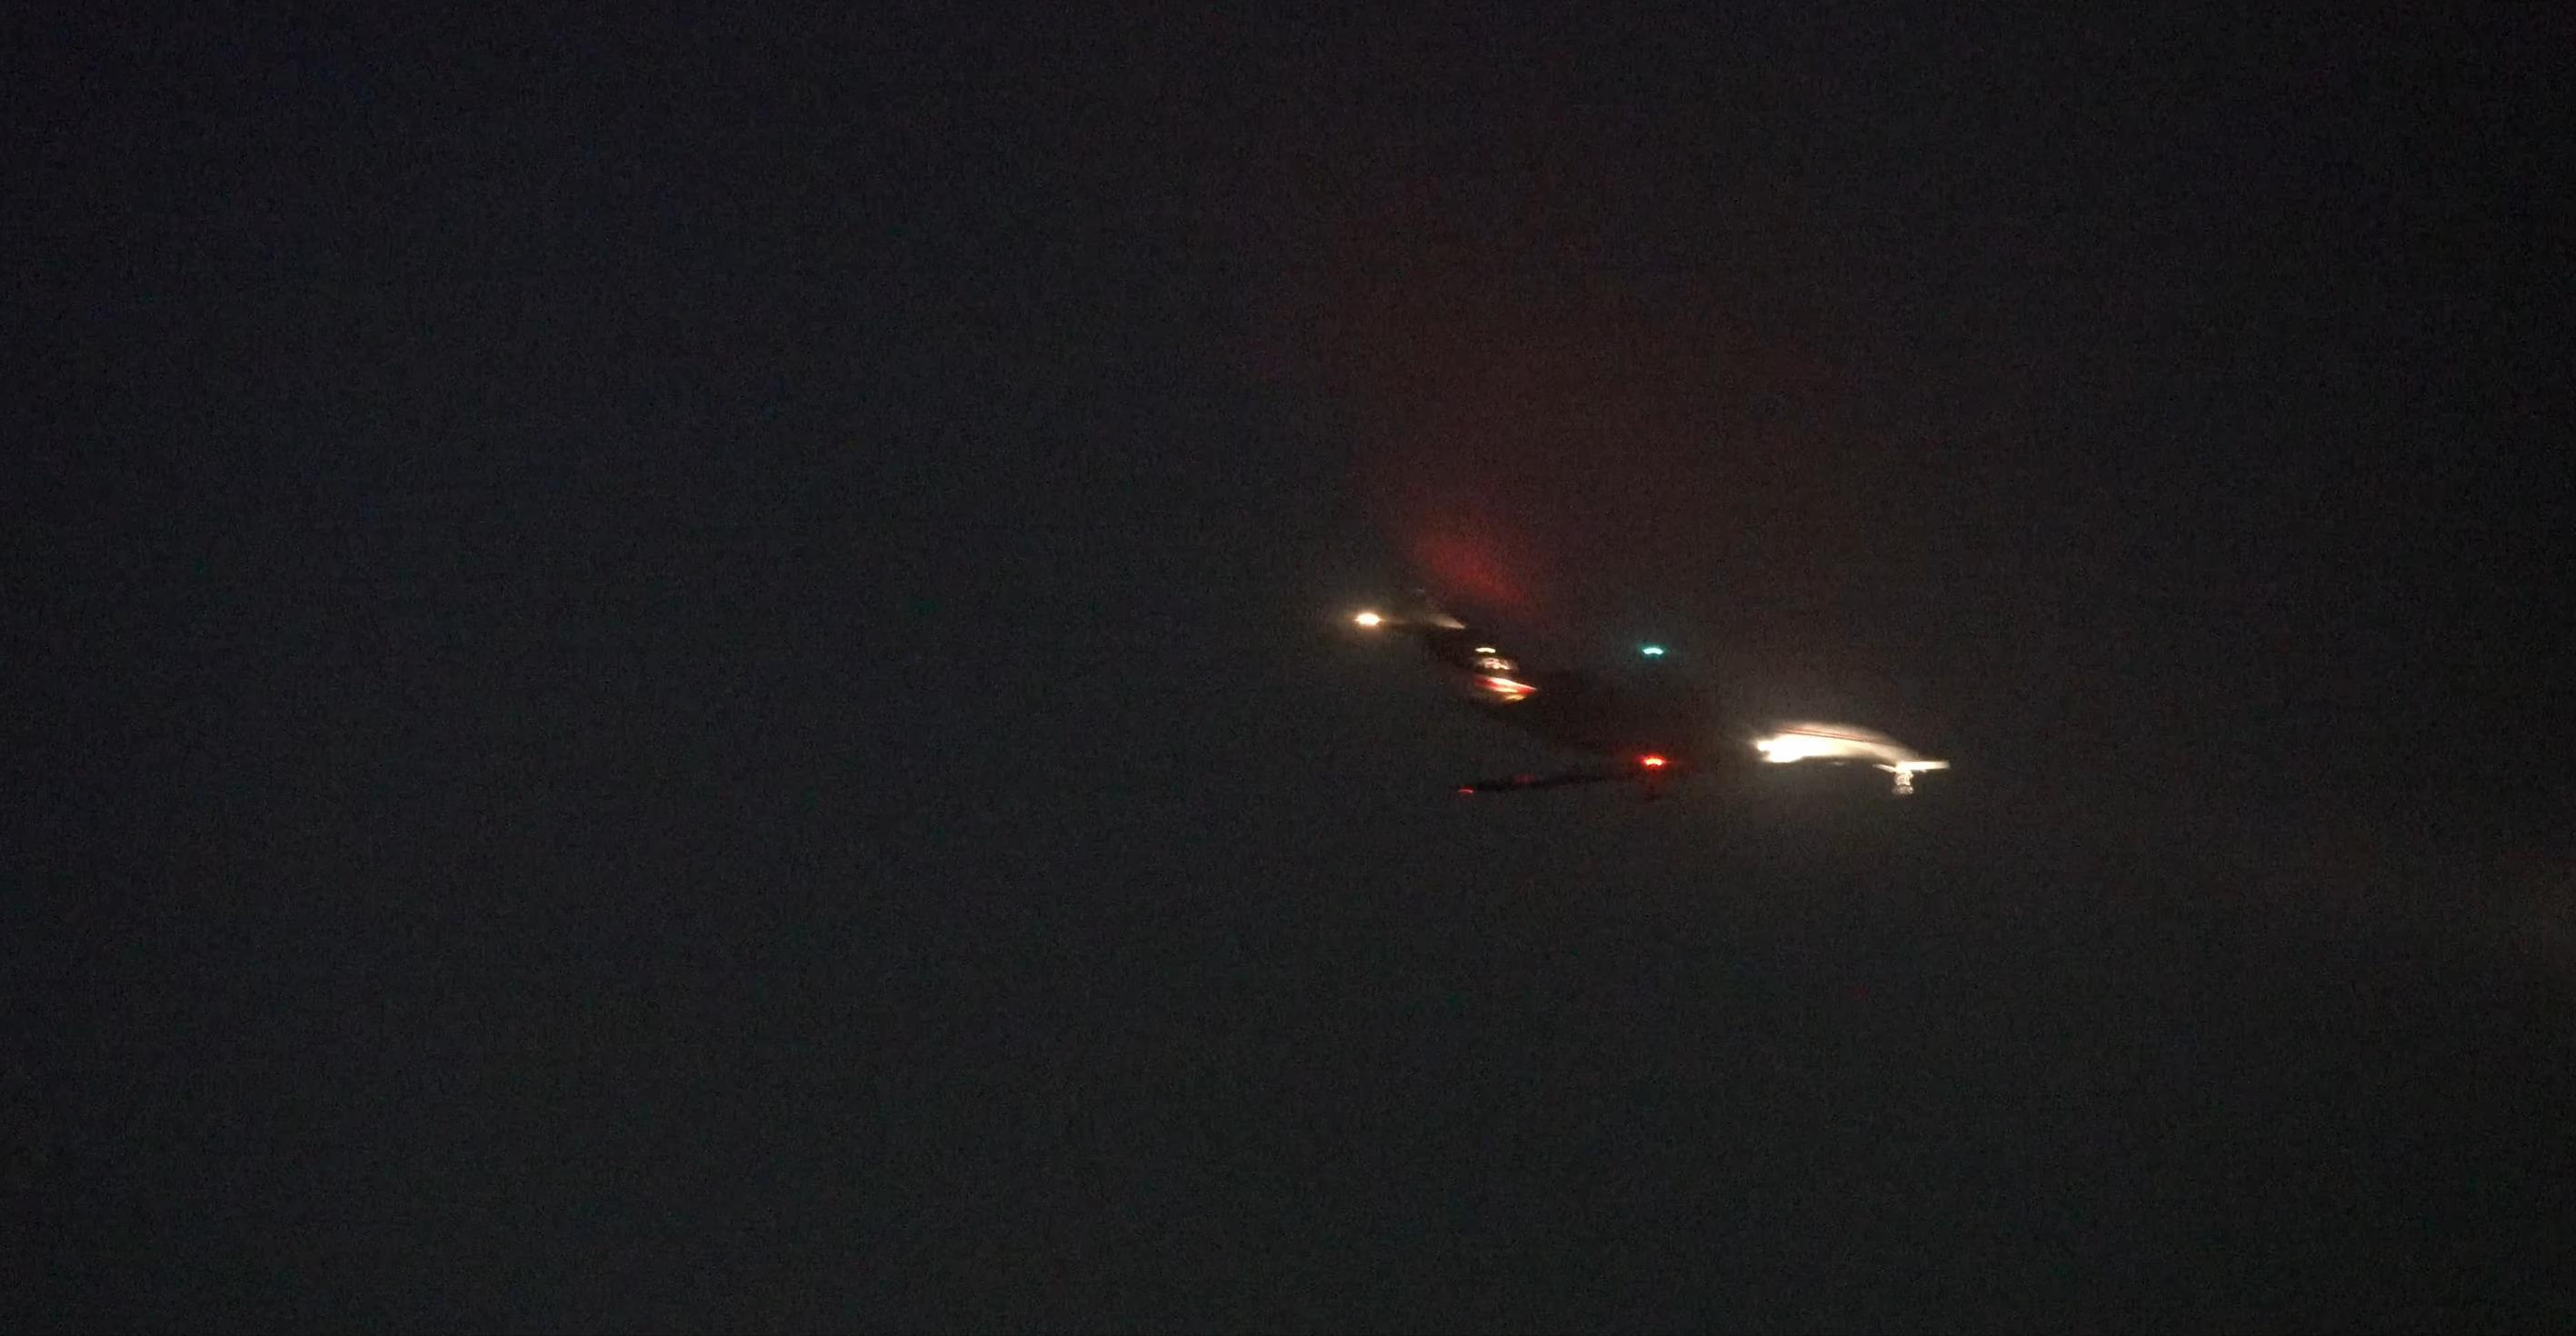Plane: (1377, 603, 1915, 815)
